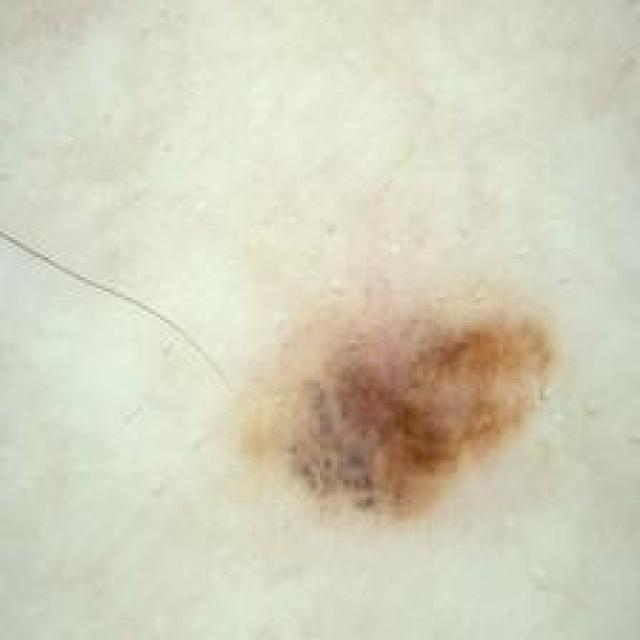Cancer: (234, 286, 557, 523)
